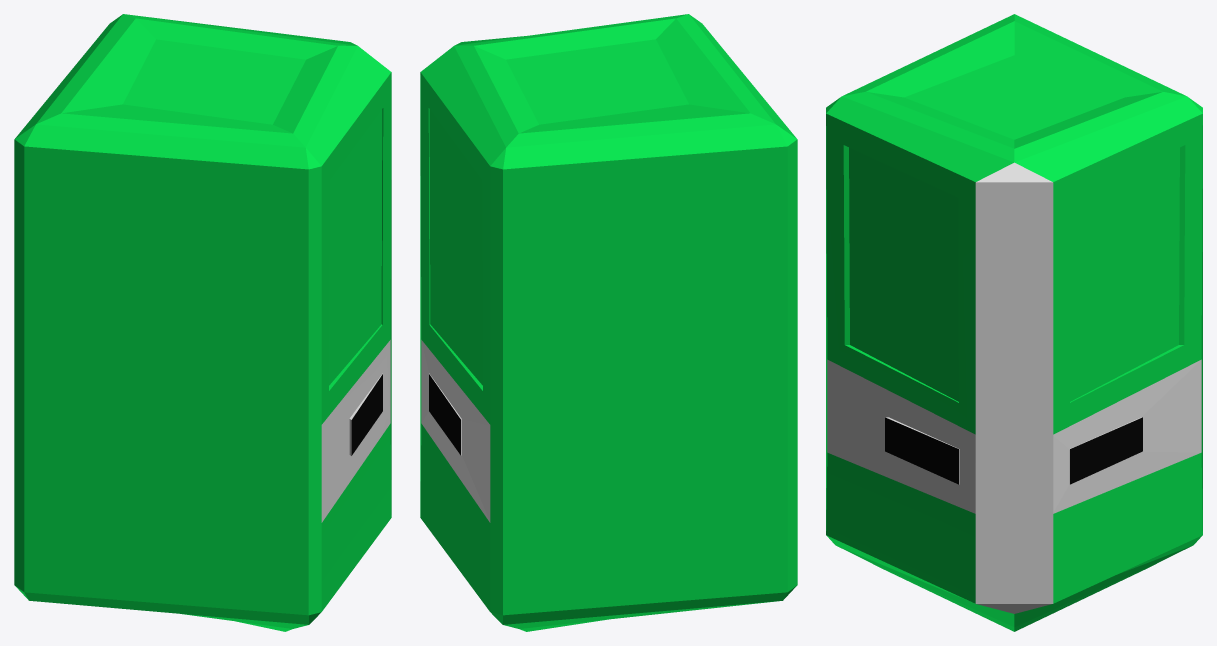
Rendered from healt castle .fbx.
3 renders of one model, left to right at view 1: azimuth 30°, elevation 25°; view 2: azimuth 150°, elevation 25°; view 3: azimuth 270°, elevation 25°, orthographic. The views are drawn at different scales.
Parts seen in each view (by area): view 1: Cube; view 2: Cube; view 3: Cube.
Boxes of the visible parts, bbox=[...] form: Cube: bbox=[14, 14, 391, 631]; Cube: bbox=[420, 14, 797, 631]; Cube: bbox=[826, 14, 1202, 631].
Bounding box in the file's own units: 238 × 333 × 233.
